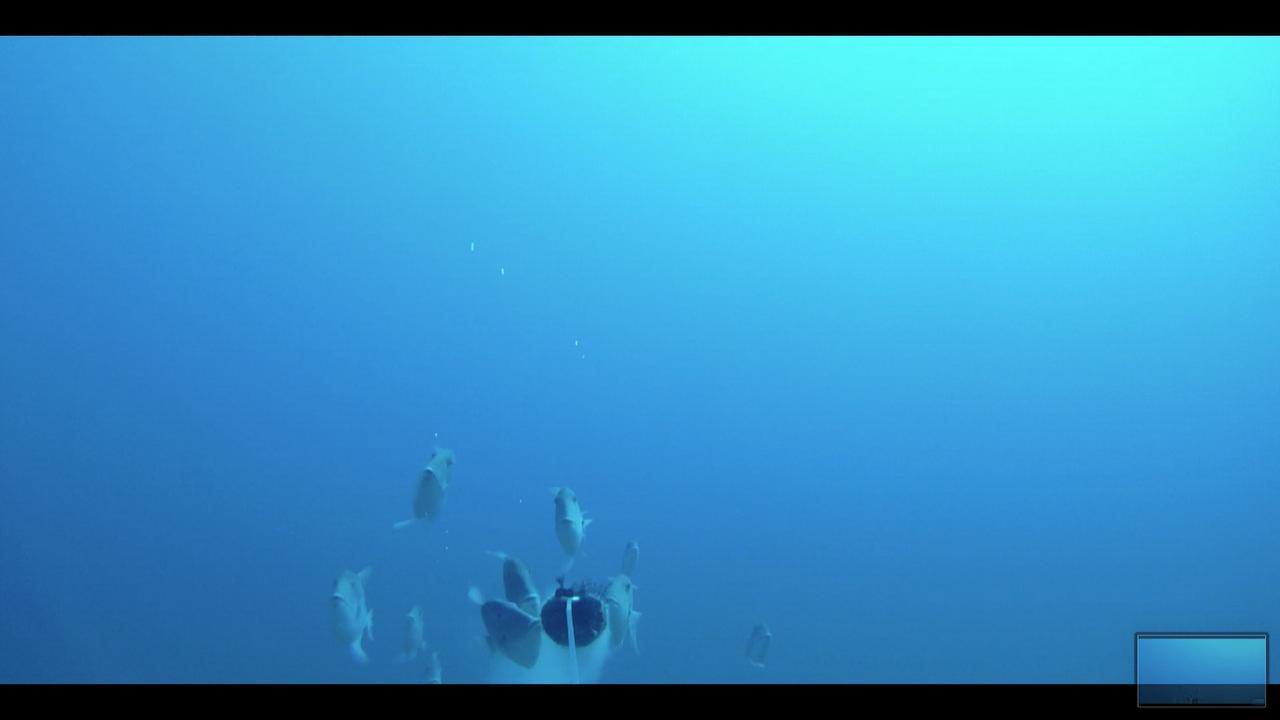balistes: (320, 562, 387, 671), (584, 570, 657, 670), (387, 442, 458, 540), (467, 595, 550, 668), (528, 479, 592, 567), (728, 619, 786, 677), (394, 597, 423, 666), (599, 536, 645, 576), (420, 645, 462, 683)
